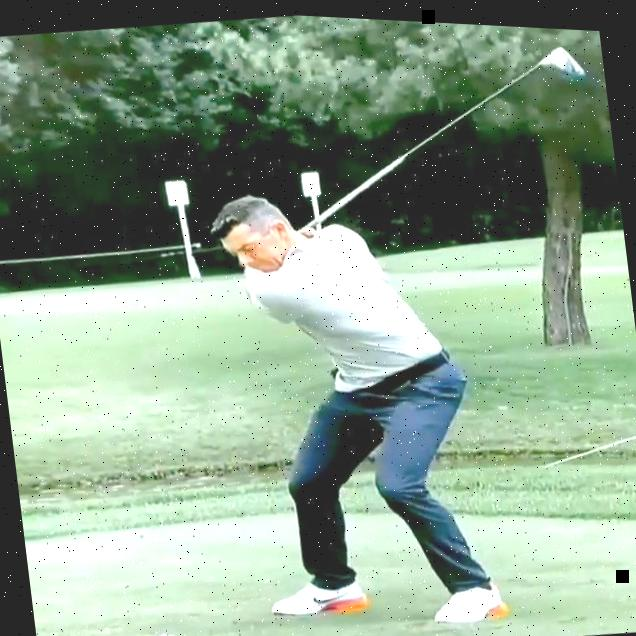ClubHead: (534, 37, 586, 82)
GolfBall: (156, 630, 176, 636)
